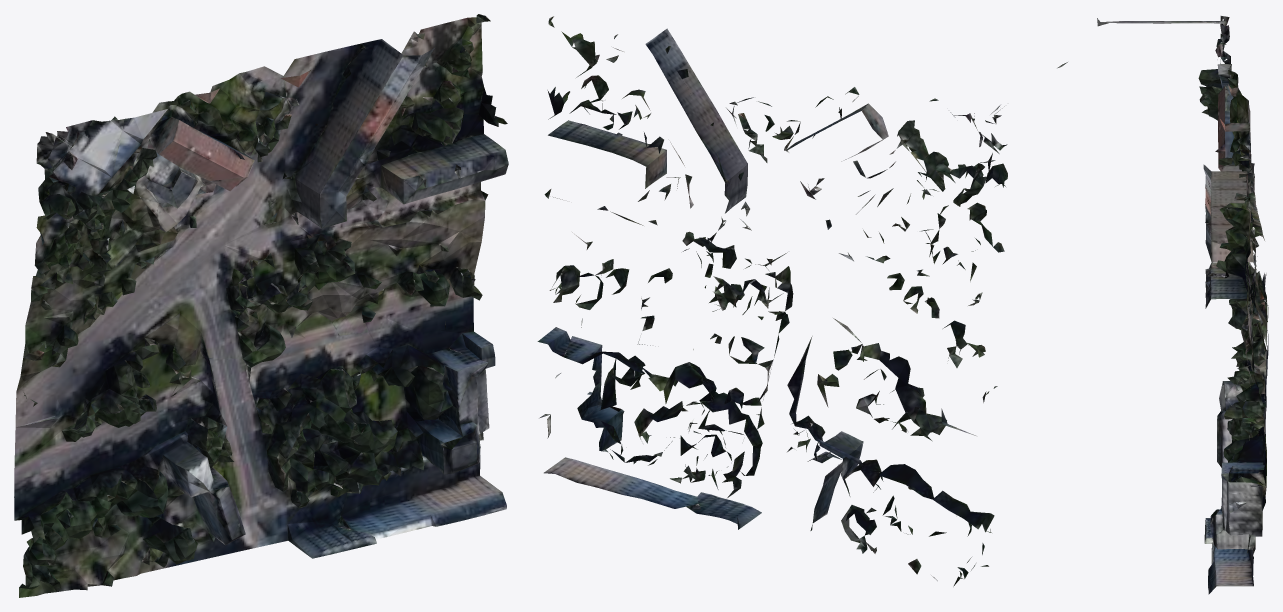
The model's file is Tile_+034_+028_L16_000.glb.
The picture shows the model from 3 angles, left to right: view 1: azimuth 30°, elevation 25°; view 2: azimuth 150°, elevation 25°; view 3: azimuth 270°, elevation 25°; orthographic projection. The views are drawn at different scales.
Bounding box in the file's own units: 250 × 250 × 97.75.
1 material, 1 textured.
